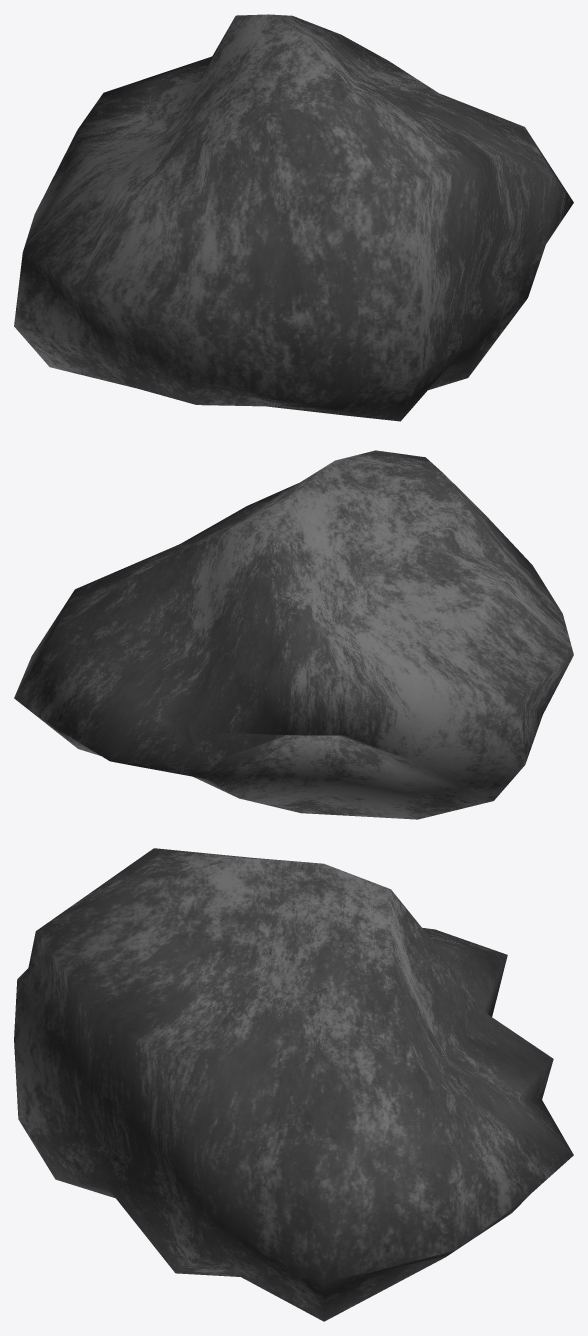
Rendered from Roca2.fbx.
3 renders of one model, top to bottom at view 1: azimuth 30°, elevation 25°; view 2: azimuth 150°, elevation 25°; view 3: azimuth 270°, elevation 25°, orthographic. The views are drawn at different scales.
Visible parts, largest first — view 1: Cube; view 2: Cube; view 3: Cube.
Part boxes in pixels (<box>): Cube: <box>14,14,573,421</box>; Cube: <box>14,450,573,819</box>; Cube: <box>14,848,573,1321</box>.
Size of the model in its own units: 109 by 68.92 by 92.48.
